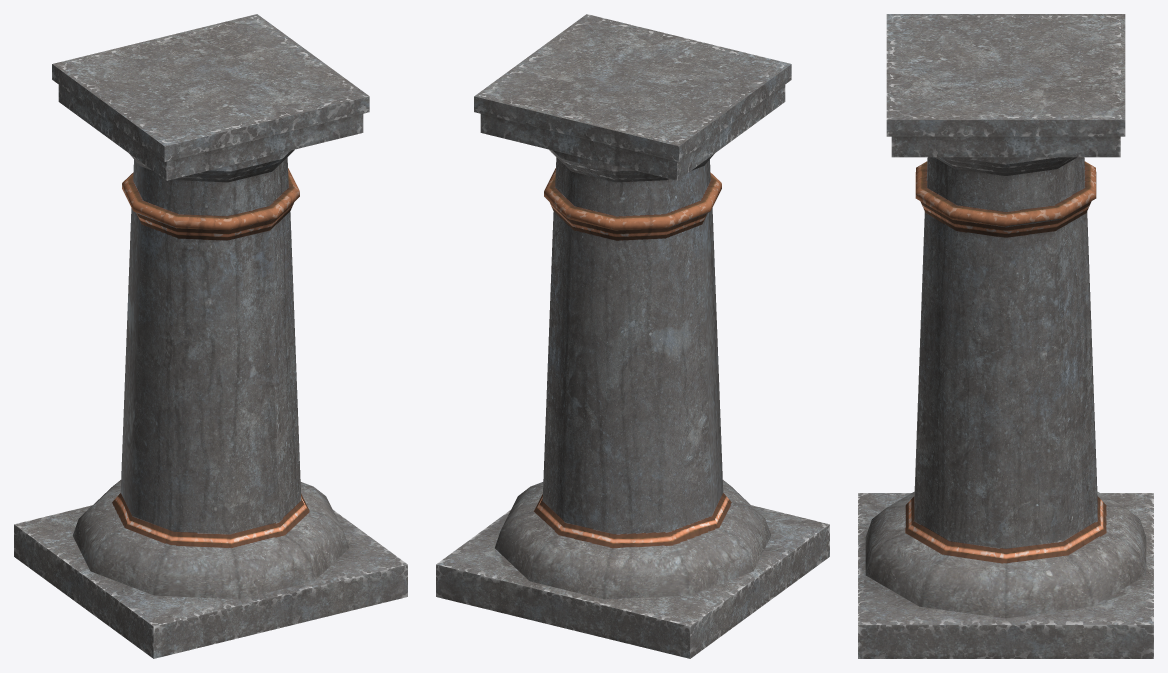
The model's file is pedestal_b.FBX.
3 views of the same model, side by side, from view 1: azimuth 30°, elevation 25°; view 2: azimuth 150°, elevation 25°; view 3: azimuth 270°, elevation 25° (orthographic). The views are drawn at different scales.
Visible parts, largest first — view 1: Line001; view 2: Line001; view 3: Line001.
Boxes of the visible parts, x1,y1,x2,y2 form: Line001: (14, 14, 407, 658); Line001: (436, 14, 829, 658); Line001: (858, 14, 1153, 658).
Size of the model in its own units: 0.9998 by 1.87 by 0.9509.
